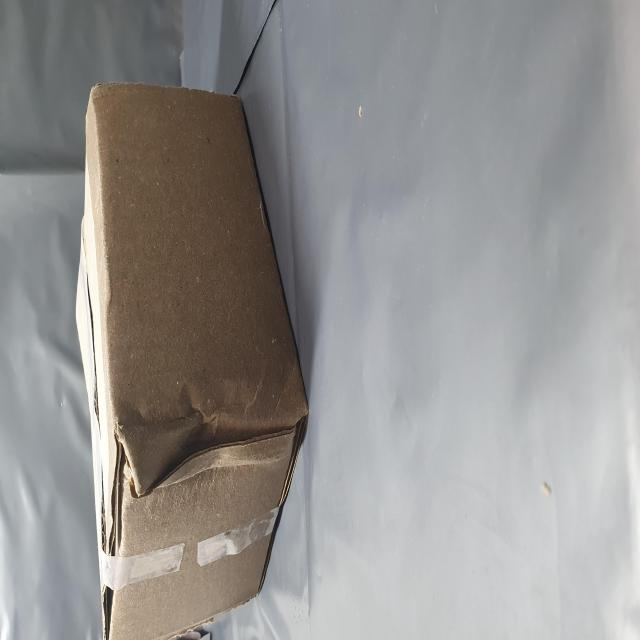wet: (7, 150, 308, 530)
